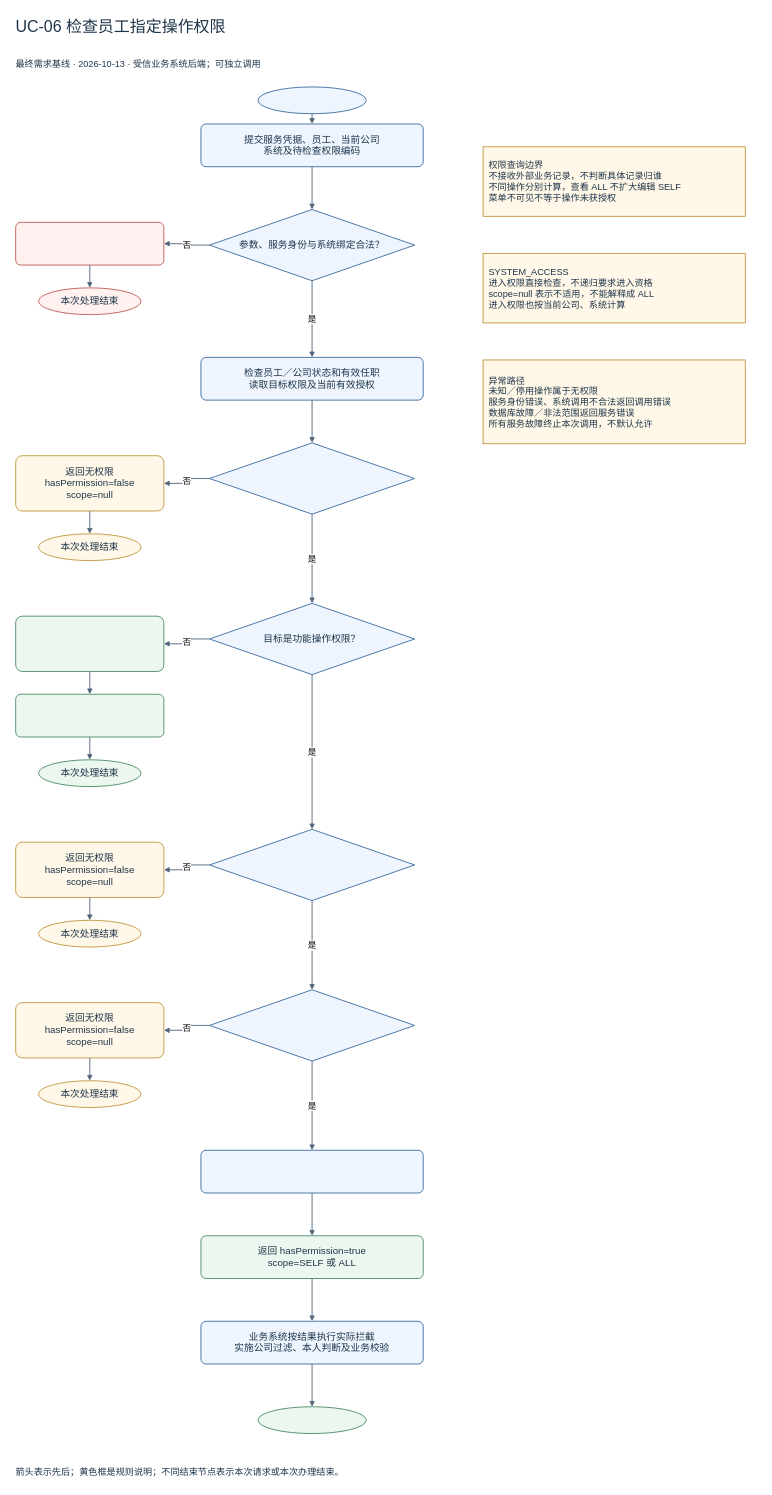
Some shapes in this 772 by 1495 pixel diagram are drawn without their labels. Here are the shapes that lost their labels. From the top down, the box of each, then its label:
(257, 86, 366, 114): 开始
(15, 222, 164, 265): 返回调用错误，不能据此放行
(209, 442, 415, 514): 员工及任职有效且目标权限有效？
(15, 615, 164, 672): 目标为 SYSTEM_ACCESS 直接检查该公司、系统的进入来源
(15, 694, 164, 737): 返回对应 hasPermission scope=null
(209, 829, 415, 901): 具有该公司、该系统进入资格？
(209, 989, 415, 1061): 存在该操作的有效授权来源？
(200, 1150, 423, 1193): 只合并该公司、系统内该操作范围 全部 SELF 则 SELF，任一 ALL 则 ALL
(257, 1406, 366, 1434): 完成本次处理
